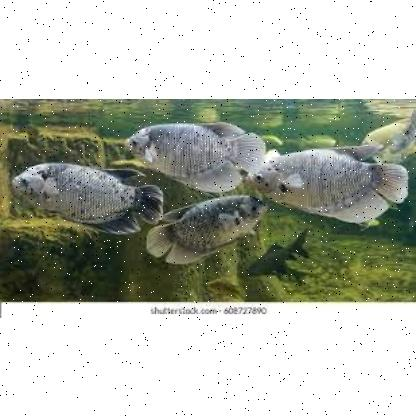gurame: (250, 145, 400, 221), (13, 160, 161, 236), (147, 192, 269, 262), (123, 122, 255, 186)
